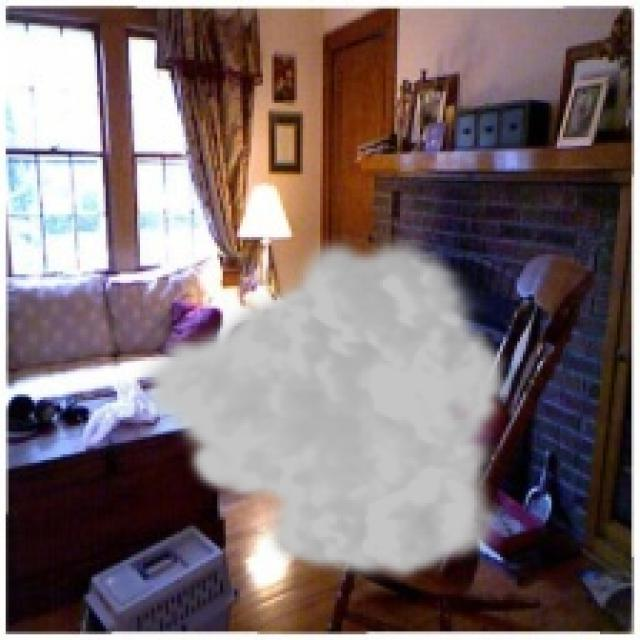smoke: (134, 228, 512, 586)
